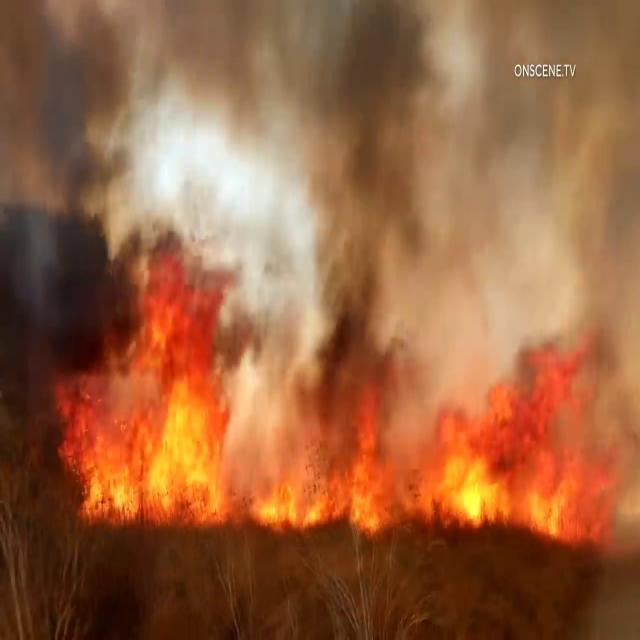Fire: (260, 384, 618, 544), (47, 290, 239, 530)
Smoke: (254, 3, 638, 372), (0, 0, 167, 409)
